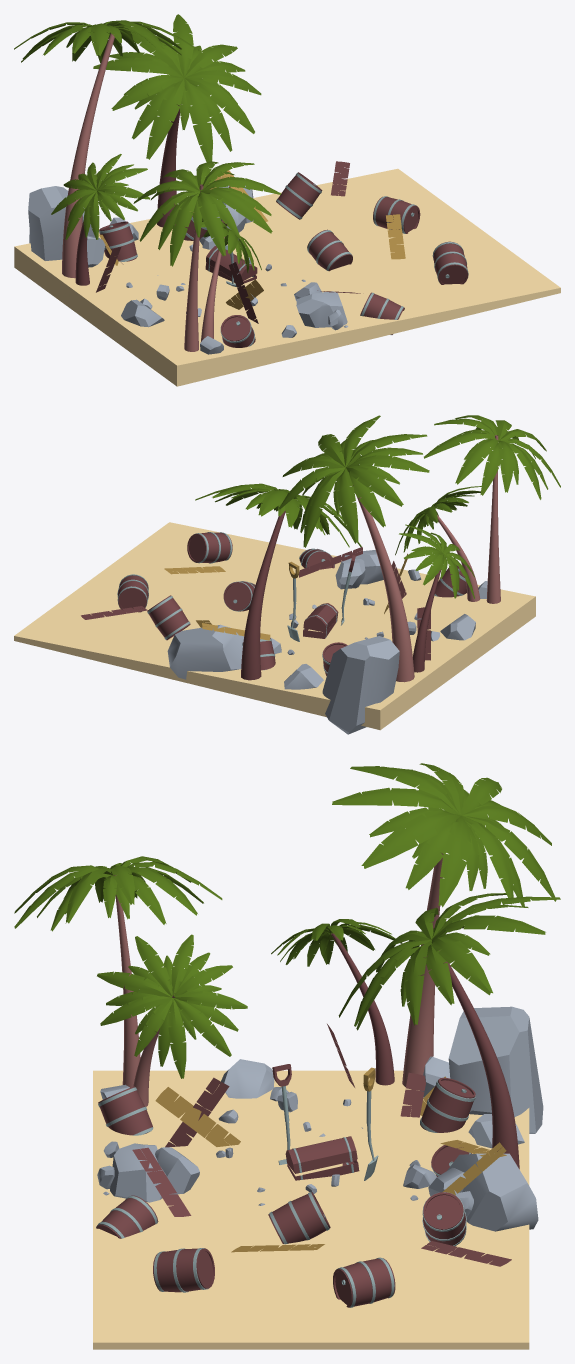
File: island2x2.glb
3 renders of one model, top to bottom at view 1: azimuth 30°, elevation 25°; view 2: azimuth 150°, elevation 25°; view 3: azimuth 270°, elevation 25°, orthographic. The views are drawn at different scales.
Visible parts, largest first — view 1: sand, foliage, foliage.3, foliage.5, foliage.4, rock.010, trunk.4, rock.012, barrel.006, trunk.3, barrel.003, barrel.004 (+14 smaller); view 2: sand, foliage.4, rock.010, foliage.3, rock.004, foliage, trunk.4, trunk, foliage.5, barrel.006, foliage.2, trunk.3 (+14 smaller); view 3: sand, foliage.4, foliage.2, foliage, rock.010, foliage.3, rock.004, trunk, trunk.4, barrel.006, barrel.007, foliage.5 (+19 smaller).
Part boxes in pixels (left/top/right/bottom): sand: left=14, top=168, right=560, bottom=386; foliage: left=93, top=14, right=261, bottom=162; foliage.3: left=133, top=161, right=280, bottom=266; foliage.5: left=51, top=154, right=149, bottom=239; foliage.4: left=14, top=20, right=198, bottom=63; rock.010: left=28, top=186, right=94, bottom=260; trunk.4: left=62, top=33, right=114, bottom=278; rock.012: left=296, top=291, right=347, bottom=327; barrel.006: left=432, top=241, right=468, bottom=284; trunk.3: left=184, top=184, right=203, bottom=351; barrel.003: left=307, top=229, right=352, bottom=271; barrel.004: left=276, top=172, right=322, bottom=219; sand: left=14, top=522, right=535, bottom=730; foliage.4: left=279, top=415, right=429, bottom=547; rock.010: left=322, top=636, right=399, bottom=734; foliage.3: left=424, top=415, right=560, bottom=499; rock.004: left=167, top=624, right=243, bottom=679; foliage: left=195, top=483, right=361, bottom=547; trunk.4: left=353, top=485, right=414, bottom=682; trunk: left=241, top=510, right=285, bottom=680; foliage.5: left=399, top=524, right=474, bottom=598; barrel.006: left=187, top=532, right=232, bottom=563; foliage.2: left=395, top=486, right=481, bottom=555; trunk.3: left=486, top=435, right=500, bottom=603; sand: left=93, top=1070, right=529, bottom=1349; foliage.4: left=332, top=763, right=556, bottom=907; foliage.2: left=97, top=934, right=247, bottom=1078; foliage: left=338, top=893, right=560, bottom=1030; rock.010: left=448, top=1006, right=543, bottom=1133; foliage.3: left=14, top=856, right=222, bottom=931; rock.004: left=447, top=1153, right=538, bottom=1231; trunk: left=439, top=950, right=519, bottom=1169; trunk.4: left=402, top=853, right=443, bottom=1089; barrel.006: left=153, top=1248, right=214, bottom=1292; barrel.007: left=333, top=1257, right=395, bottom=1307; foliage.5: left=271, top=919, right=402, bottom=966.
Size of what is drawn, in the model's own units: 10.09 by 6.54 by 8.75.
